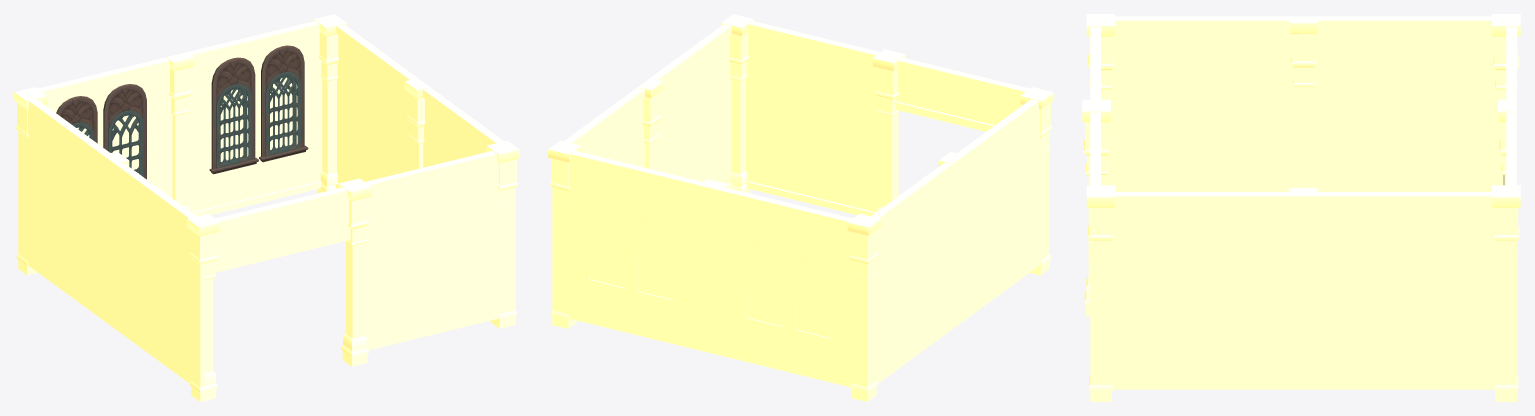
File: Homeworld_Interior_Md_Room_I_Wall_01_Vo.fbx
3 views of the same model, side by side, from view 1: azimuth 30°, elevation 25°; view 2: azimuth 150°, elevation 25°; view 3: azimuth 270°, elevation 25° (orthographic). The views are drawn at different scales.
Parts seen in each view (by area): view 1: Homeworld_Interior_Md_Room_Wall_01_Vo (×5), Homeworld_Interior_Md_Room_Wall_02_Vo (×2), Homeworld_Interior_Md_Room_Pillar_01_Vo (×5), Homeworld_Interior_Md_Room_Wall_08_Vo, Homeworld_Interior_Md_Room_Pillar_02_Vo (×2), Homeworld_Interior_Md_Room_I_Filling_01_Vo; view 2: Homeworld_Interior_Md_Room_Wall_01_Vo (×5), Homeworld_Interior_Md_Room_Wall_02_Vo (×2), Homeworld_Interior_Md_Room_Pillar_01_Vo (×5), Homeworld_Interior_Md_Room_I_Filling_01_Vo, Homeworld_Interior_Md_Room_Wall_08_Vo, Homeworld_Interior_Md_Room_Pillar_02_Vo; view 3: Homeworld_Interior_Md_Room_Wall_01_Vo (×5), Homeworld_Interior_Md_Room_Pillar_01_Vo (×5), Homeworld_Interior_Md_Room_Pillar_02_Vo (×2), Homeworld_Interior_Md_Room_Wall_02_Vo (×2), Homeworld_Interior_Md_Room_Wall_08_Vo.
Part boxes in pixels (x1,y1,x2,y2): Homeworld_Interior_Md_Room_Wall_01_Vo (×5): (18, 24, 515, 387); Homeworld_Interior_Md_Room_Wall_02_Vo (×2): (38, 21, 322, 216); Homeworld_Interior_Md_Room_Pillar_01_Vo (×5): (14, 14, 519, 401); Homeworld_Interior_Md_Room_Wall_08_Vo: (200, 187, 350, 276); Homeworld_Interior_Md_Room_Pillar_02_Vo (×2): (167, 53, 427, 210); Homeworld_Interior_Md_Room_I_Filling_01_Vo: (77, 77, 297, 174); Homeworld_Interior_Md_Room_Wall_01_Vo (×5): (552, 21, 1049, 387); Homeworld_Interior_Md_Room_Wall_02_Vo (×2): (557, 151, 862, 386); Homeworld_Interior_Md_Room_Pillar_01_Vo (×5): (548, 14, 1053, 401); Homeworld_Interior_Md_Room_I_Filling_01_Vo: (592, 206, 828, 332); Homeworld_Interior_Md_Room_Wall_08_Vo: (895, 57, 1029, 131); Homeworld_Interior_Md_Room_Pillar_02_Vo: (640, 79, 663, 170); Homeworld_Interior_Md_Room_Wall_01_Vo (×5): (1090, 16, 1516, 389); Homeworld_Interior_Md_Room_Pillar_01_Vo (×5): (1082, 14, 1520, 401); Homeworld_Interior_Md_Room_Pillar_02_Vo (×2): (1289, 17, 1512, 187); Homeworld_Interior_Md_Room_Wall_02_Vo (×2): (1503, 26, 1516, 185); Homeworld_Interior_Md_Room_Wall_08_Vo: (1090, 26, 1100, 99).
Size of what is drawn, in the model's own units: 10.17 by 5.34 by 10.27.
